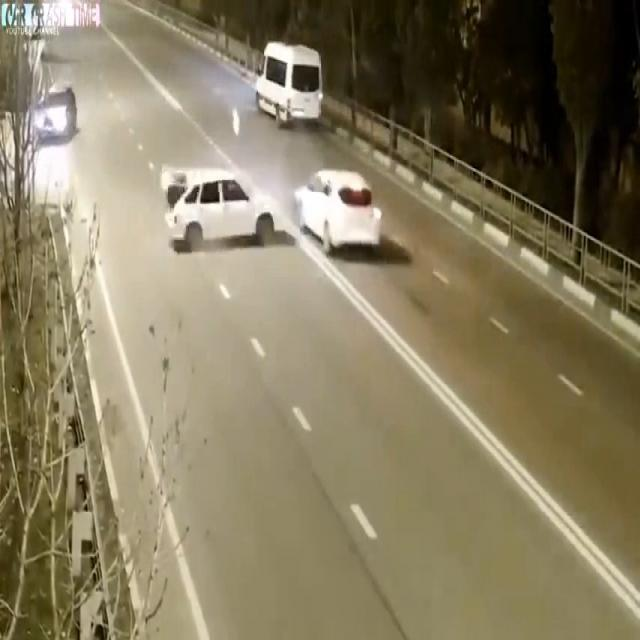Accident: (163, 136, 383, 277)
